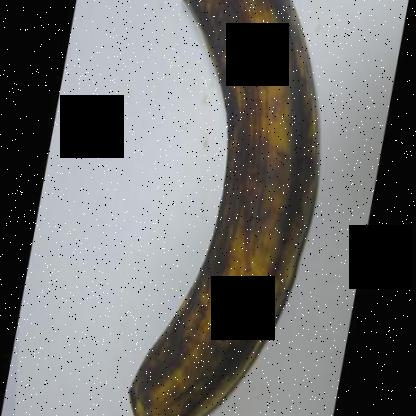overripe: (108, 1, 334, 415)
